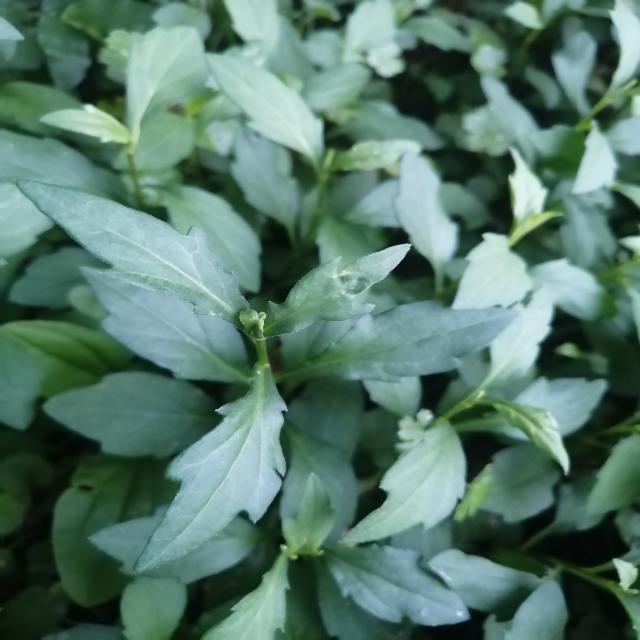Indian aster: (52, 192, 472, 449), (183, 439, 491, 622)
